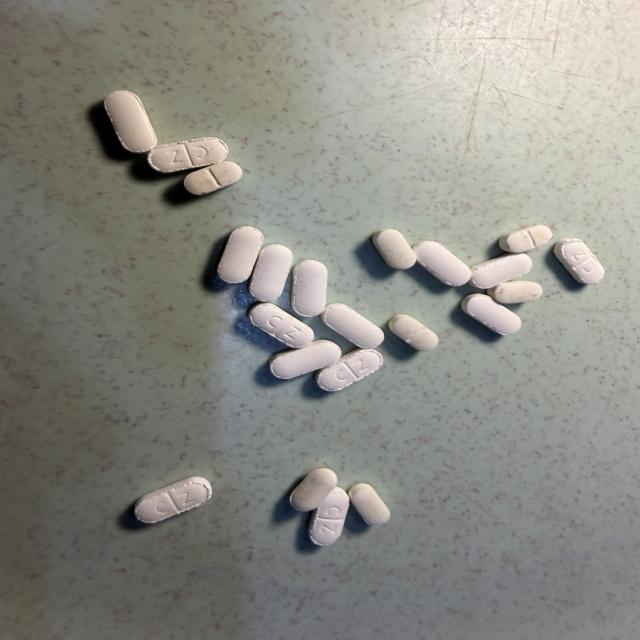pill: (135, 477, 212, 523), (105, 90, 157, 152), (248, 303, 314, 348), (148, 137, 228, 173), (316, 349, 383, 391), (269, 340, 341, 379), (321, 304, 383, 348), (413, 241, 470, 286), (218, 226, 263, 283), (249, 244, 293, 301), (462, 294, 521, 335), (554, 238, 605, 284), (309, 487, 349, 545), (469, 253, 532, 289), (290, 468, 337, 511), (291, 260, 327, 316), (184, 161, 242, 195), (372, 229, 416, 269), (389, 315, 438, 350), (349, 484, 390, 525), (499, 225, 552, 253), (487, 281, 542, 303)
